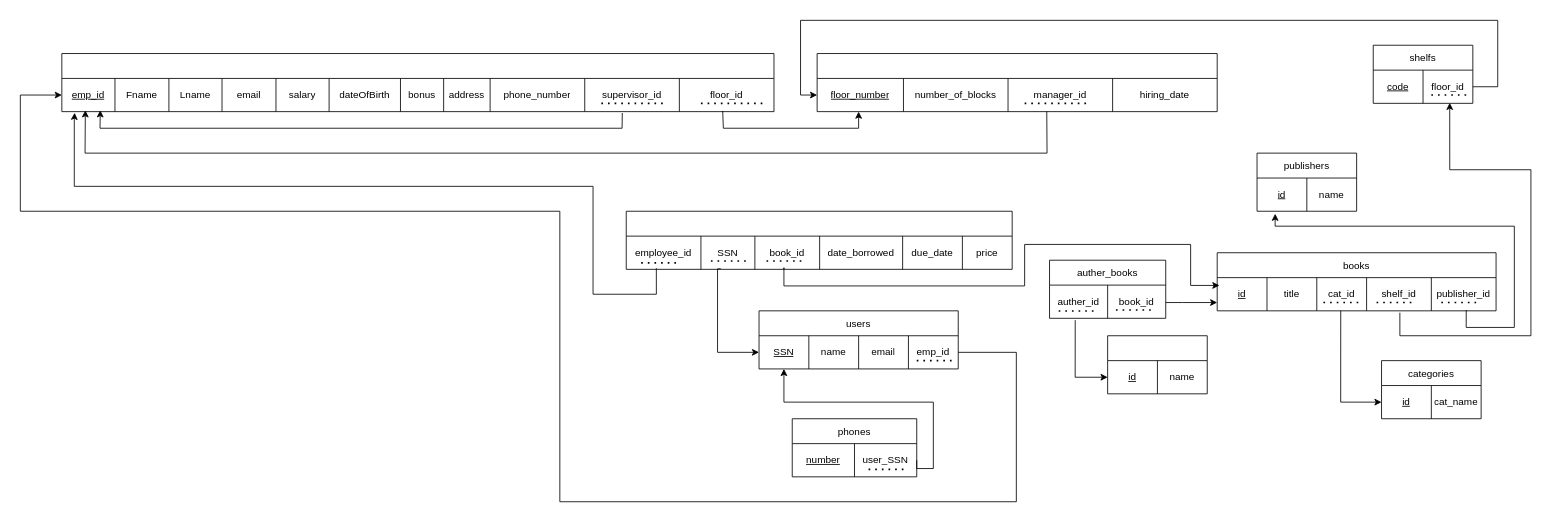
This 1552x523 diagram has some shape labels left out. The box of each missing label's shape, as (x1, y1, x2, y2) in pixels:
authers: (1107, 335, 1207, 394)
employees: (61, 53, 774, 112)
floors: (816, 53, 1217, 112)
user_borrow_books: (625, 210, 1012, 269)
